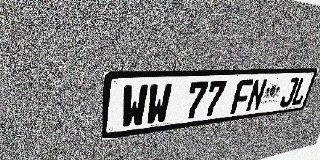7: (183, 81, 209, 121), (202, 81, 227, 118)
F: (230, 79, 254, 114)
J: (278, 77, 300, 108)
L: (290, 77, 311, 106)
N: (245, 79, 268, 112)
W: (120, 84, 149, 129), (145, 83, 173, 126)
